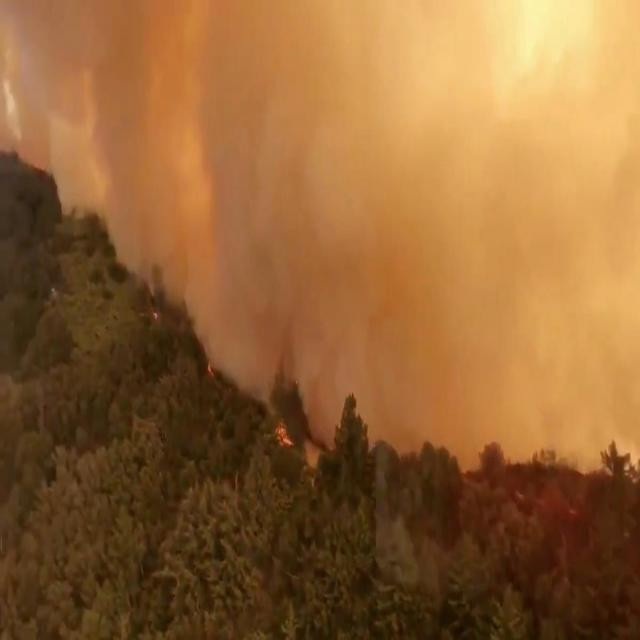Fire: (271, 407, 306, 453), (207, 362, 213, 376)
